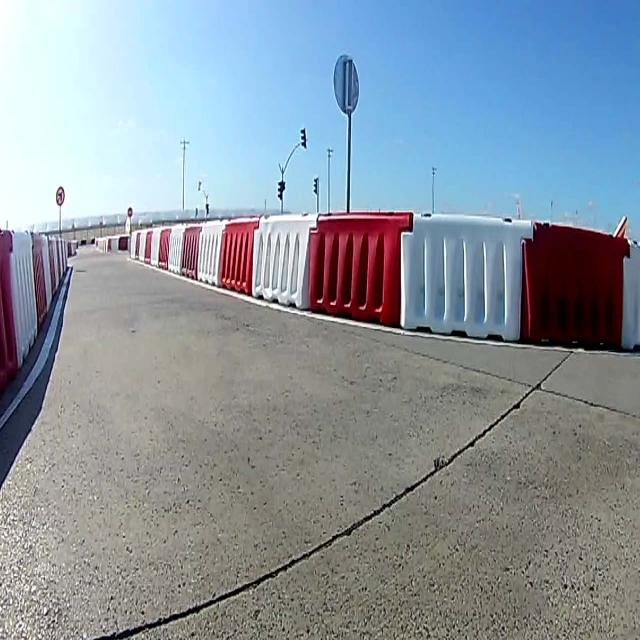soladonulmez: (55, 186, 65, 207)
